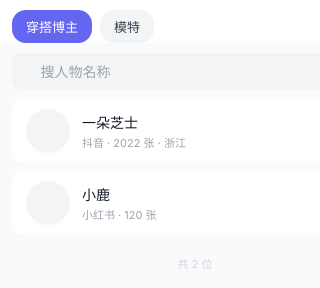
PersonsScreen（人物列表） › 切到模特 Tab 会按 model 重新拉取
Expected: the text "一朵芝士" is shown, [82, 112, 138, 132]
Step 1. Click the text "模特" → (127,26), box [114, 17, 140, 36]
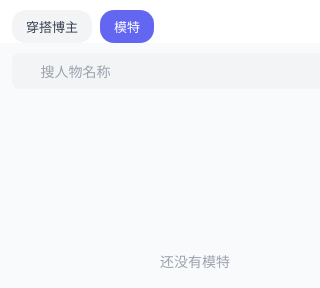
Expected: the text "还没有模特" is shown, [160, 251, 230, 271]
